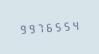five: (53, 19, 61, 33), (62, 19, 70, 32)
four: (71, 18, 79, 31)
nine: (26, 21, 34, 35), (17, 22, 25, 35)
seven: (35, 20, 43, 34)
six: (44, 20, 52, 33)
